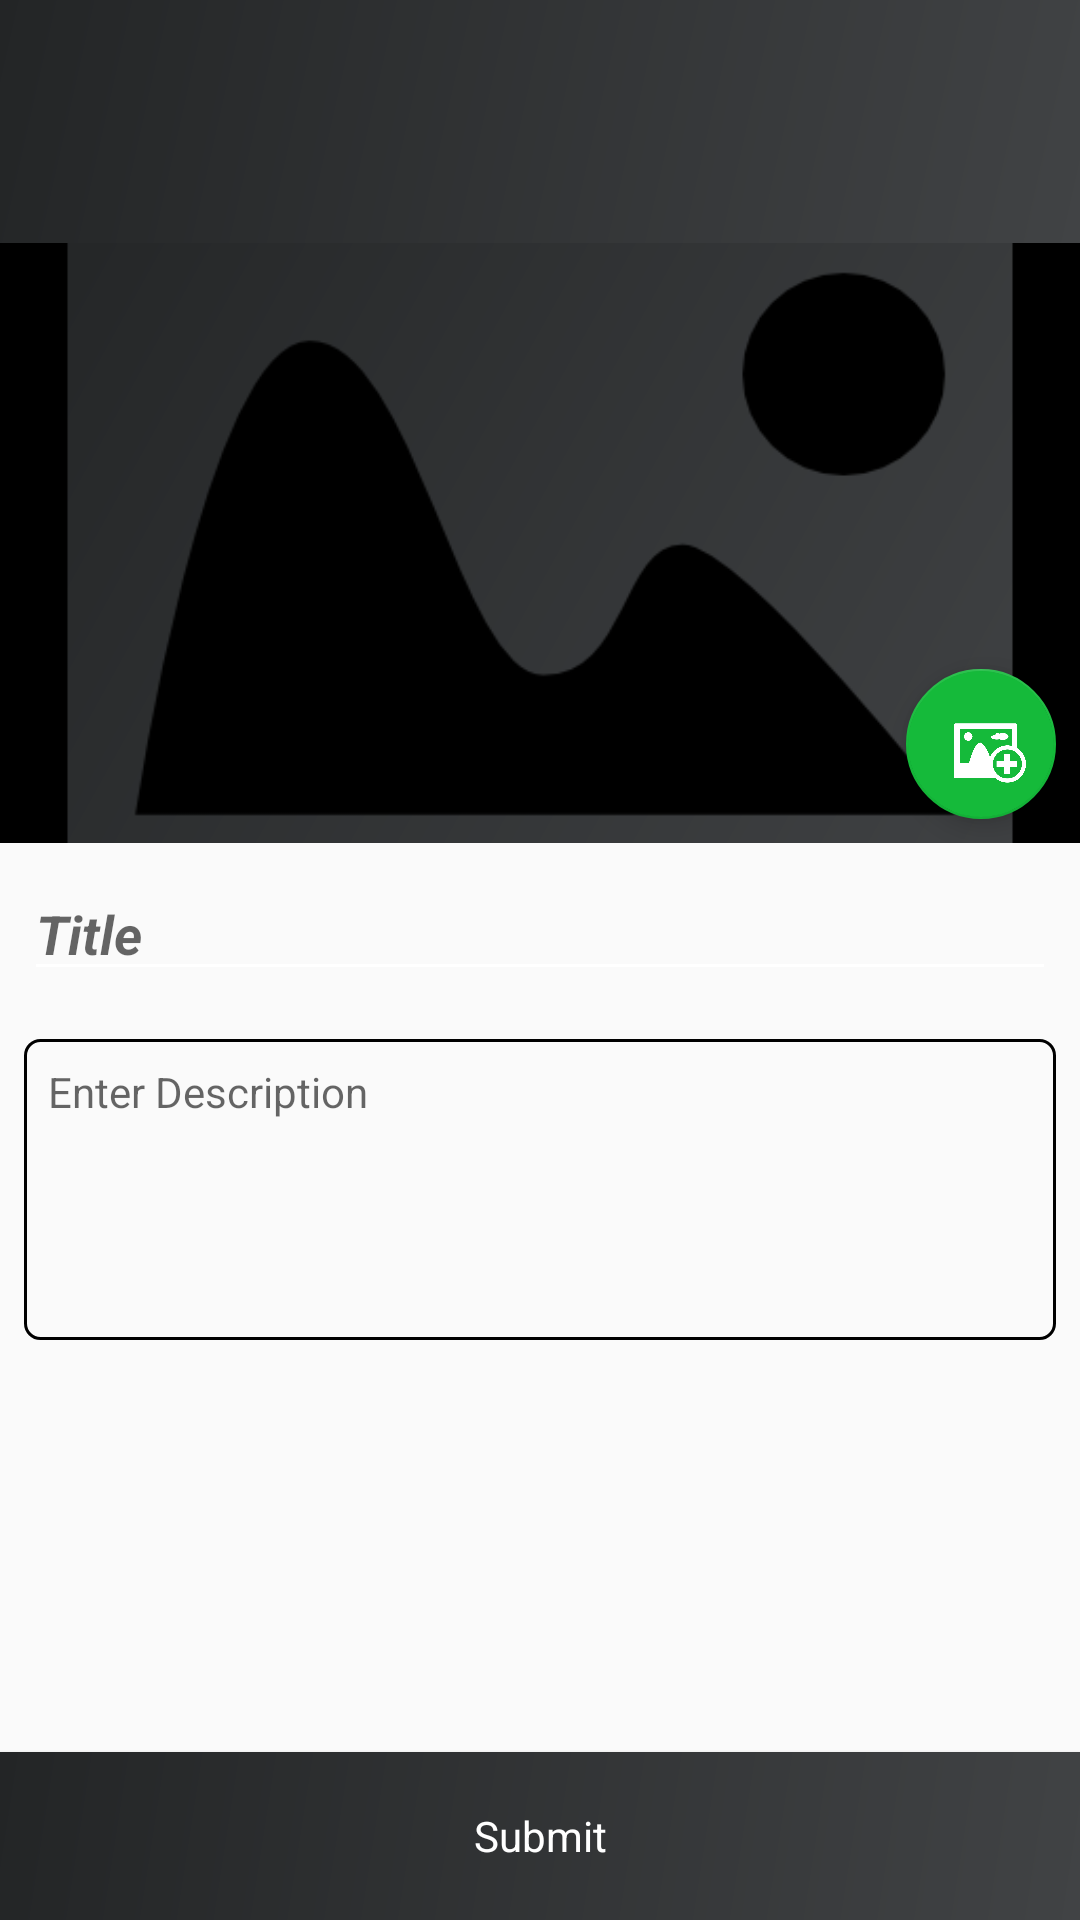

Icons on this 1080 × 1920 Android screen, each with the point to tap as (x=x, y=y):
add: (x=981, y=744)
